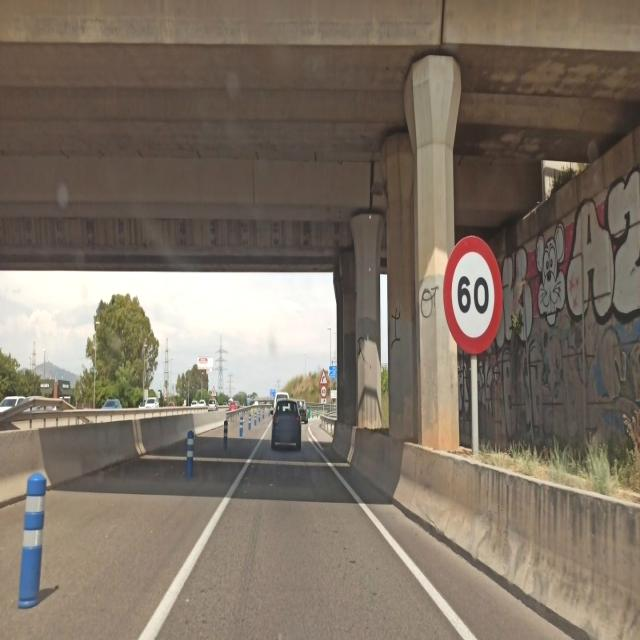car: (270, 397, 302, 452), (138, 396, 160, 410), (101, 397, 123, 410), (298, 401, 308, 424), (206, 399, 218, 412), (228, 399, 238, 413)
